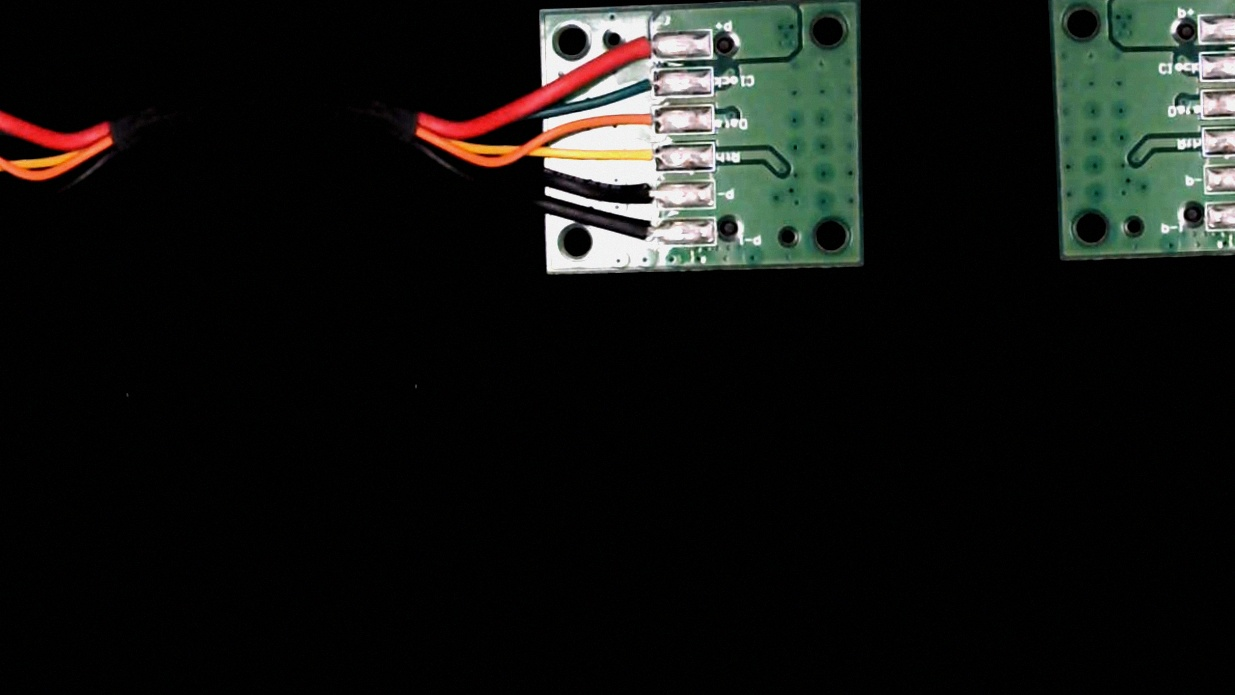Black: (616, 181, 671, 208)
Black1: (617, 217, 671, 247)
Green: (620, 68, 671, 99)
Orange: (619, 105, 670, 137)
Red: (619, 32, 671, 59)
Yellow: (613, 141, 669, 174)
